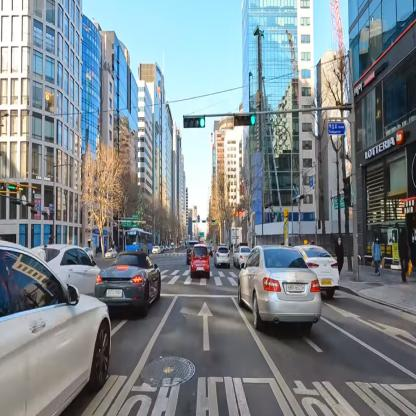Green: (234, 113, 257, 128), (184, 116, 205, 128)
